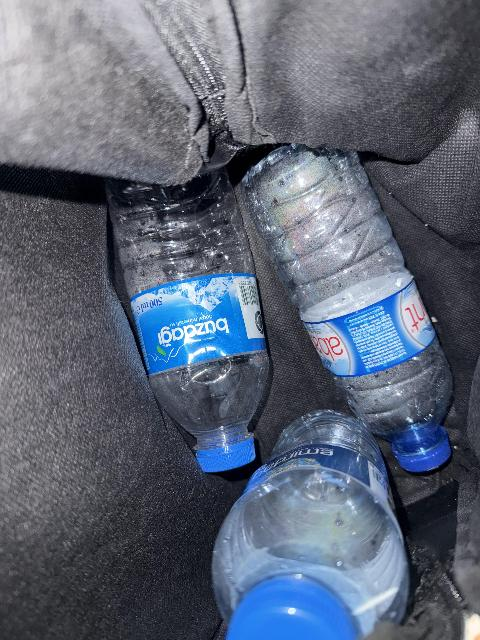Plastik: (262, 165, 456, 475), (117, 187, 263, 473), (219, 416, 395, 640), (125, 276, 260, 376), (317, 281, 424, 378), (229, 589, 357, 640)
